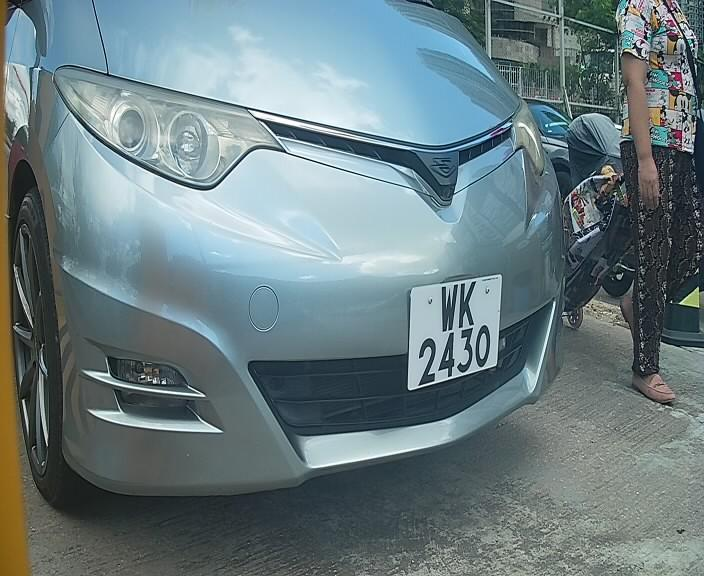License Plate: (406, 263, 507, 399)
